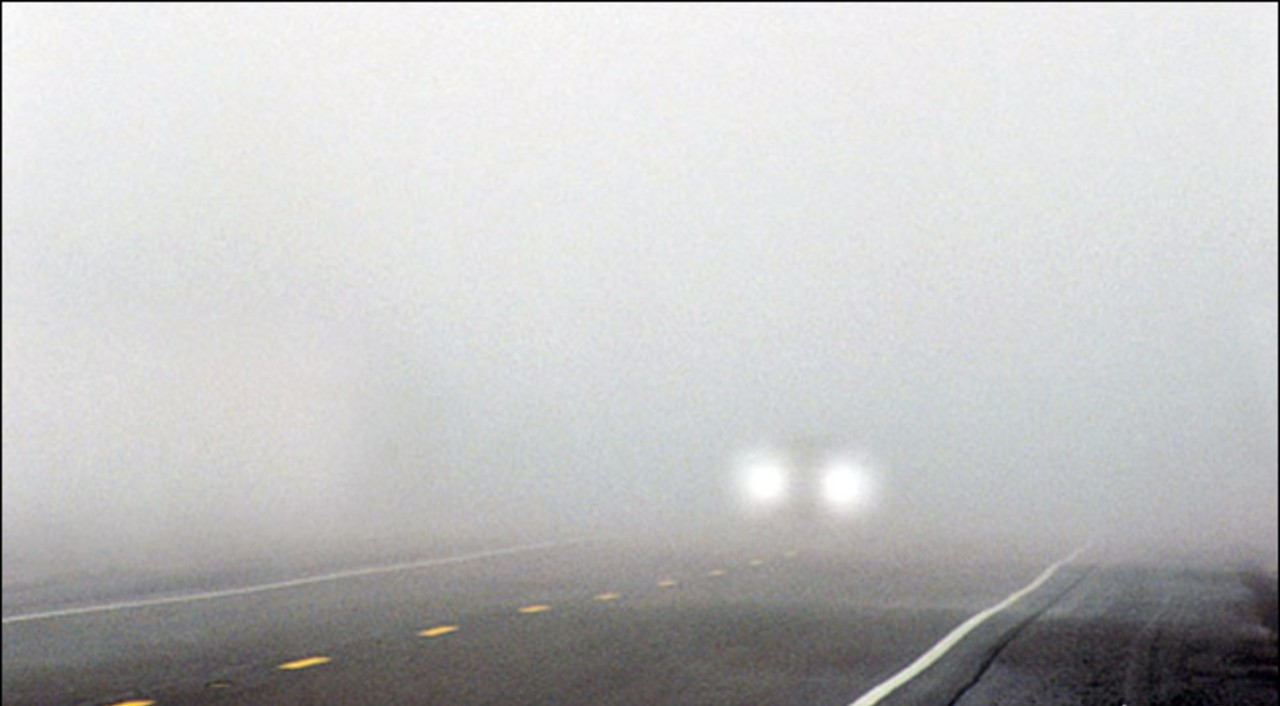car: (736, 413, 893, 524)
